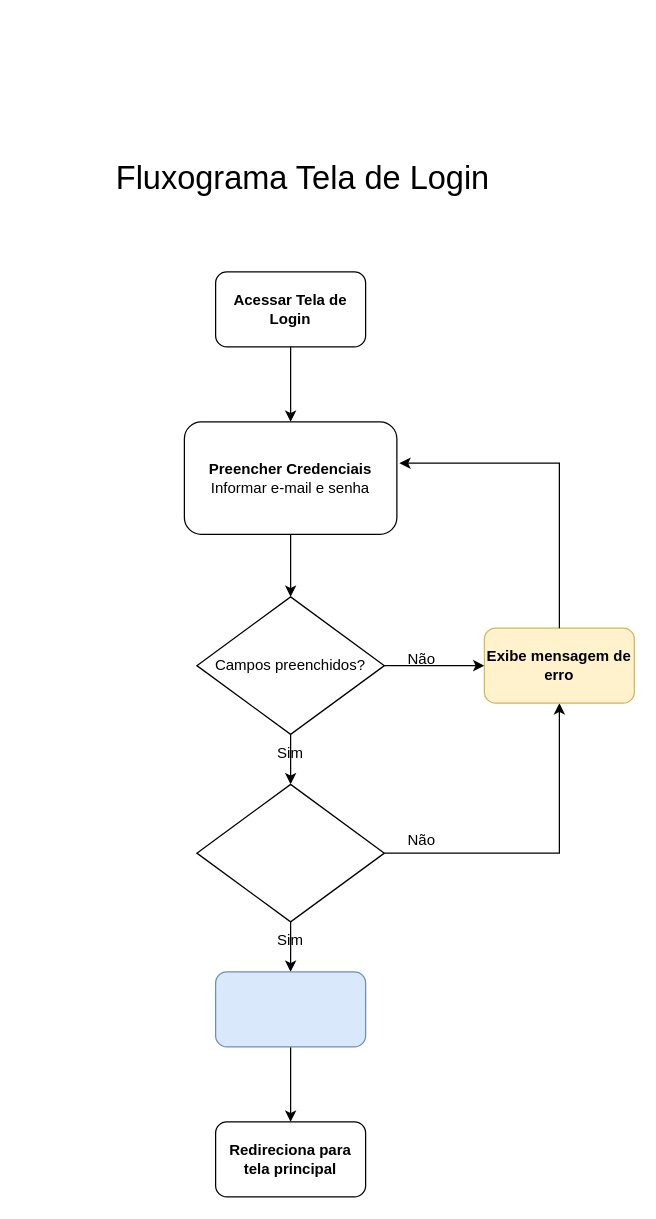
Some shapes in this 656 by 1219 pixel diagram are drawn without their labels. The shapes that lost their labels are listed below. From the top down, each one's box as (x1, y1, x2, y2) in pixels, then its label:
(196, 783, 384, 922): Credenciais Validas?
(214, 971, 366, 1047): Gerar Sessão de Usuario
